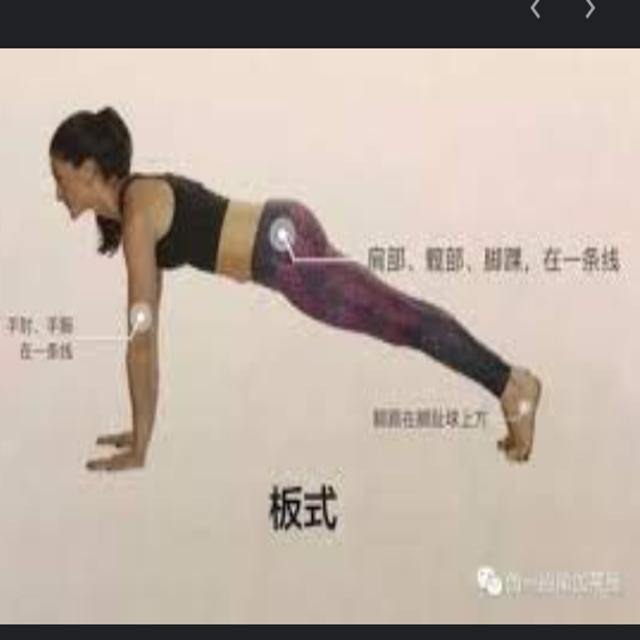Plank_Pose: (41, 96, 543, 477)
